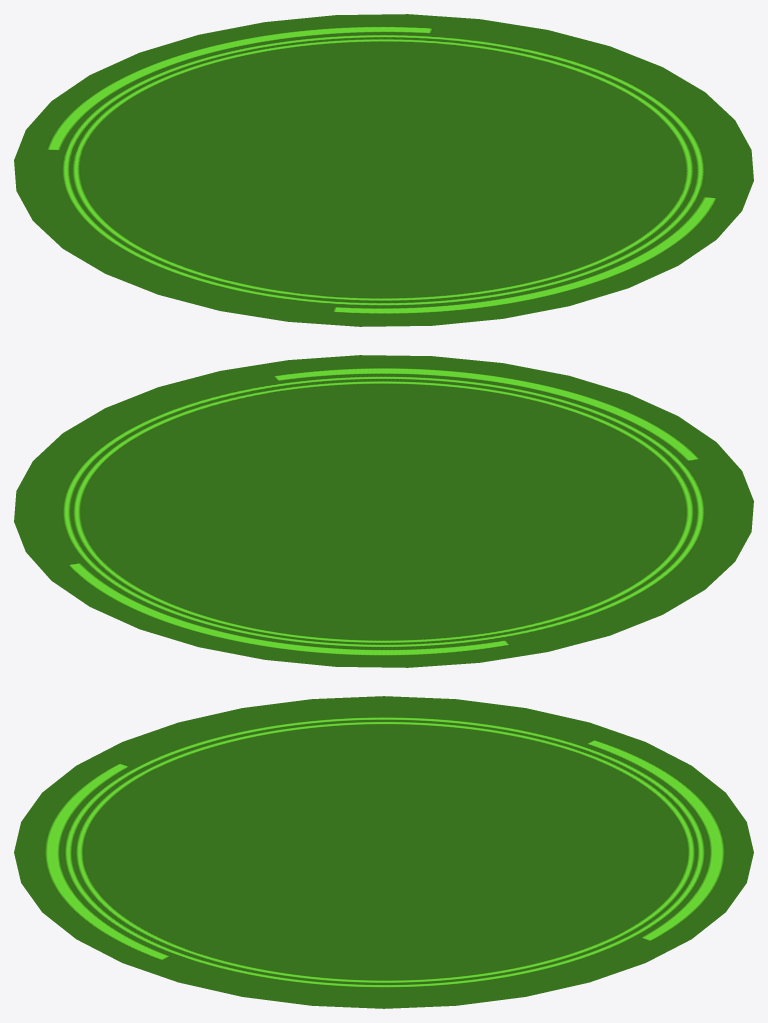
The model's file is CharacterSelect.glb.
The picture shows the model from 3 angles, top to bottom: view 1: azimuth 30°, elevation 25°; view 2: azimuth 150°, elevation 25°; view 3: azimuth 270°, elevation 25°; orthographic projection.
Parts seen in each view (by area): view 1: Circle; view 2: Circle; view 3: Circle.
Part boxes in pixels (x1,y1,x2,y2): Circle: (14, 14, 753, 326); Circle: (14, 355, 753, 667); Circle: (14, 696, 753, 1008).
Bounding box in the file's own units: 1.29 × 0 × 1.29.
Materials: 1 (1 with a texture image).
